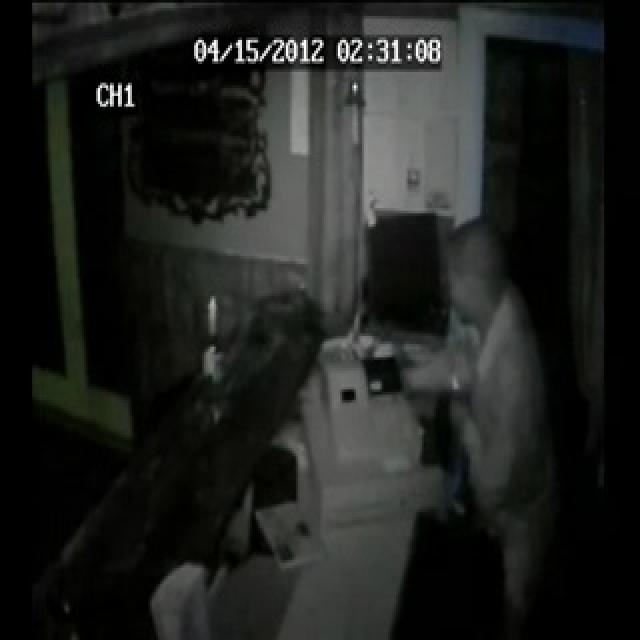thief: (422, 187, 523, 349)
